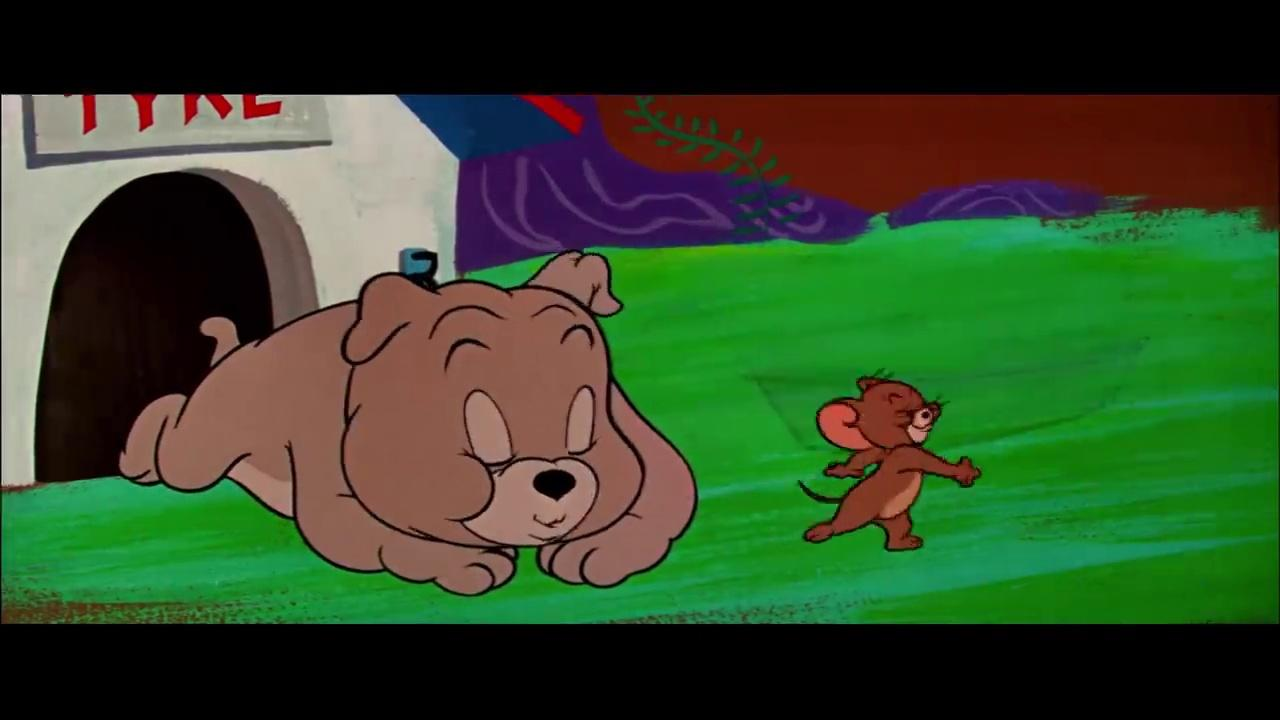Jerry: (796, 370, 983, 552)
